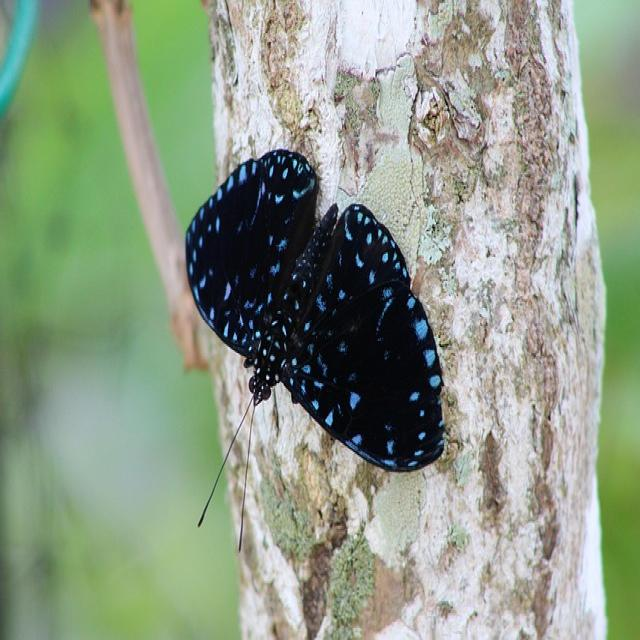butterfly: (184, 149, 447, 475)
